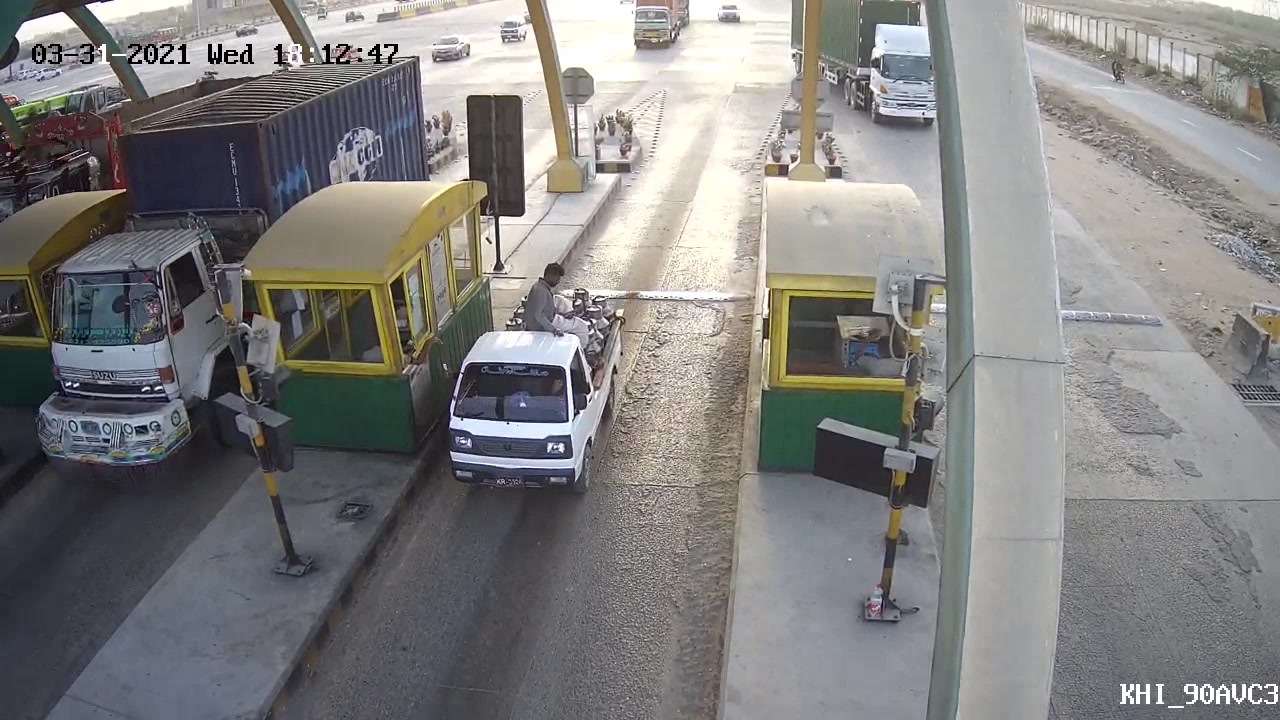F1: (440, 273, 622, 502)
